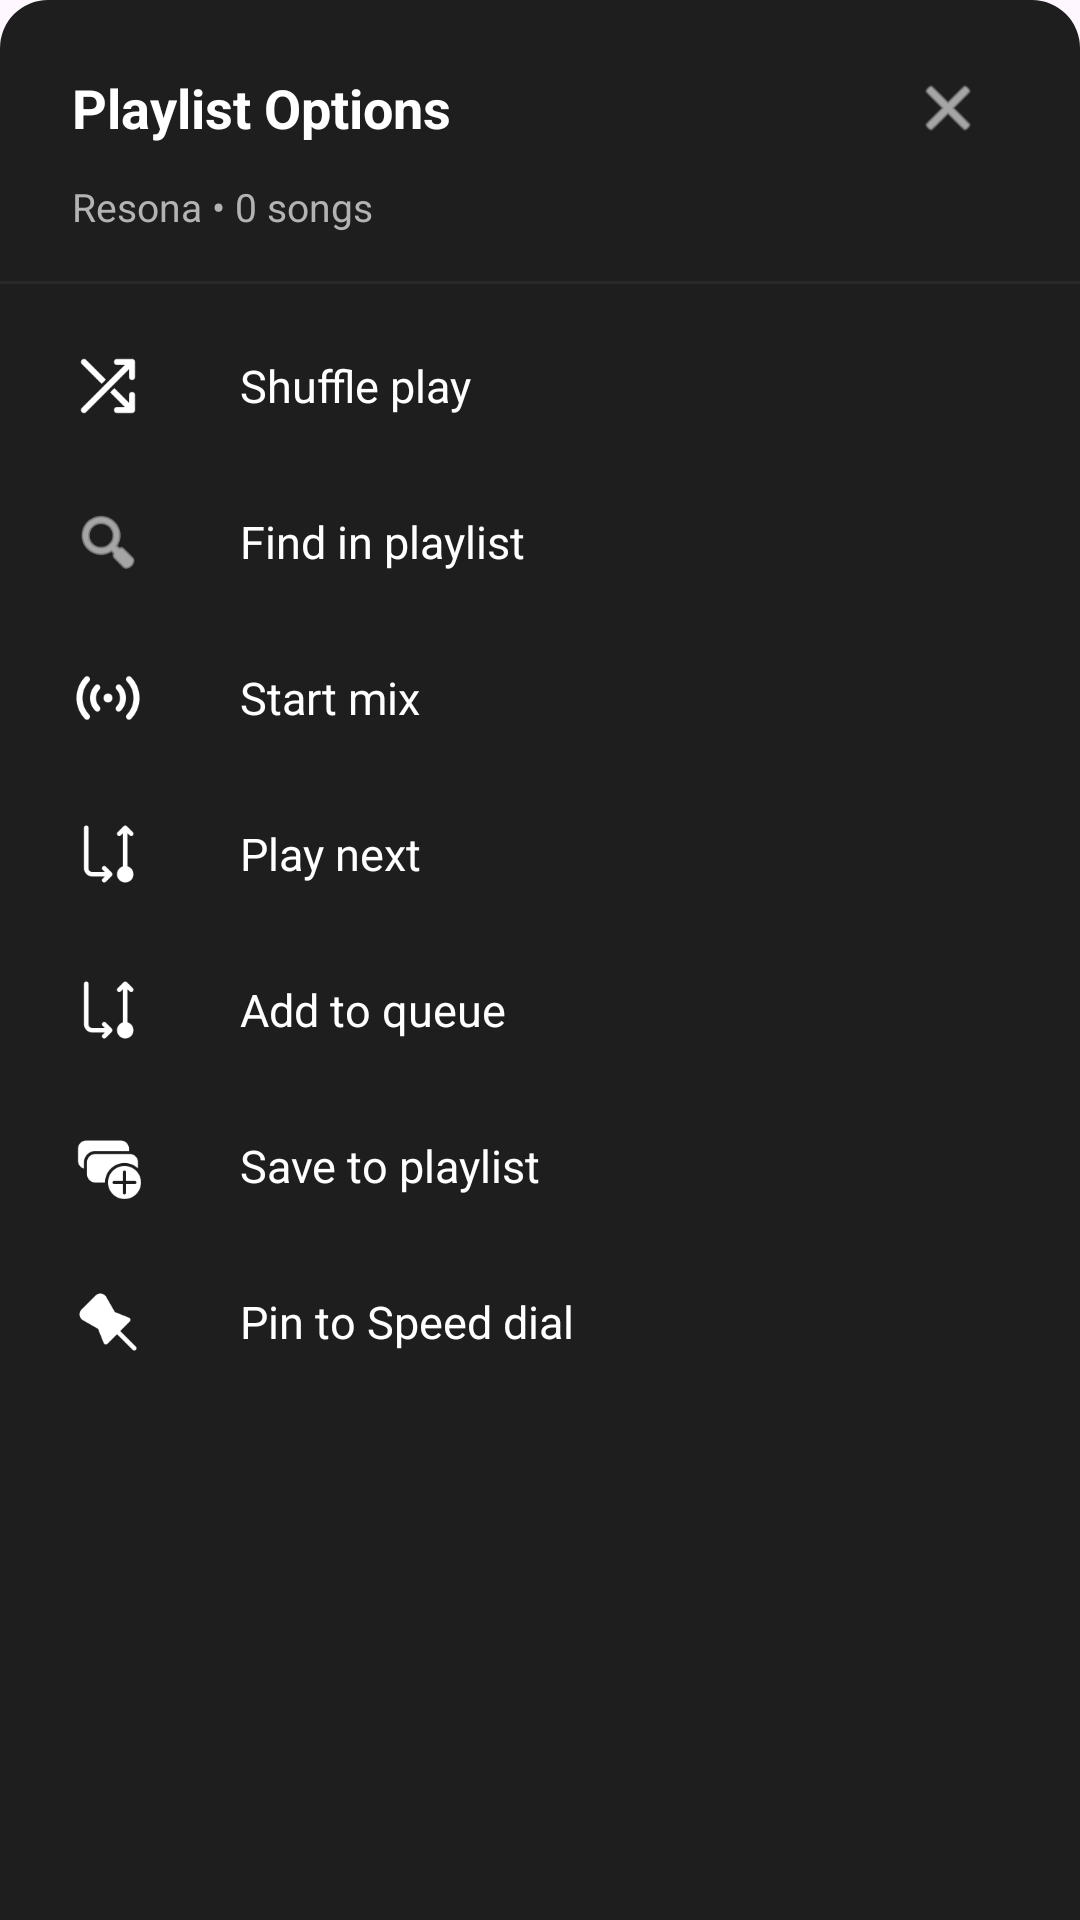

Icons on this 1080×1920 Android screen, each with the point to tap as (x=x, y=y):
close clear cancel: (x=948, y=108)
library add: (x=109, y=1169)
radio: (x=108, y=698)
search: (x=108, y=542)
